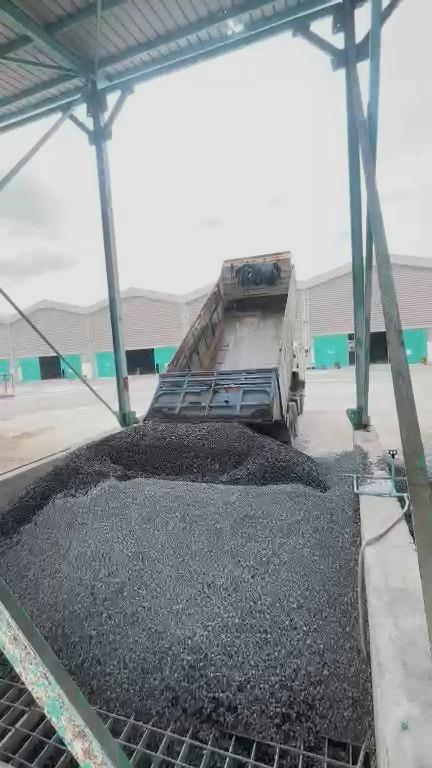gravel: (1, 444, 374, 744), (1, 420, 330, 537)
sand: (1, 430, 45, 473)
